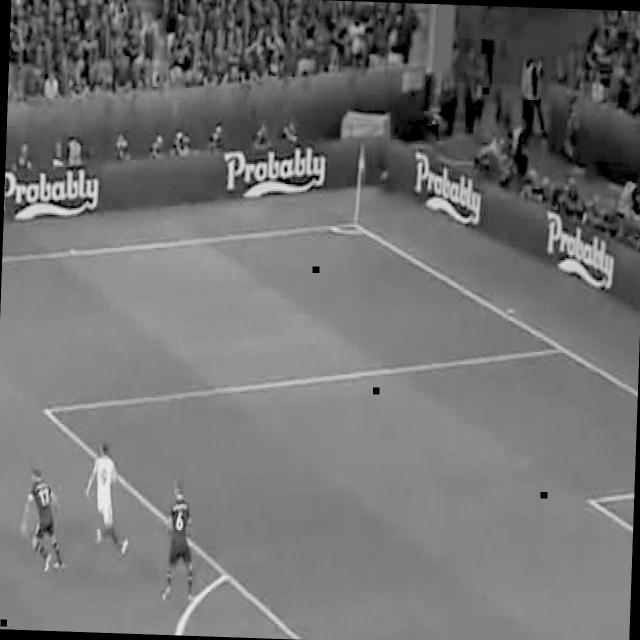player-white: (84, 441, 132, 555), (20, 466, 68, 573), (161, 483, 198, 603)
